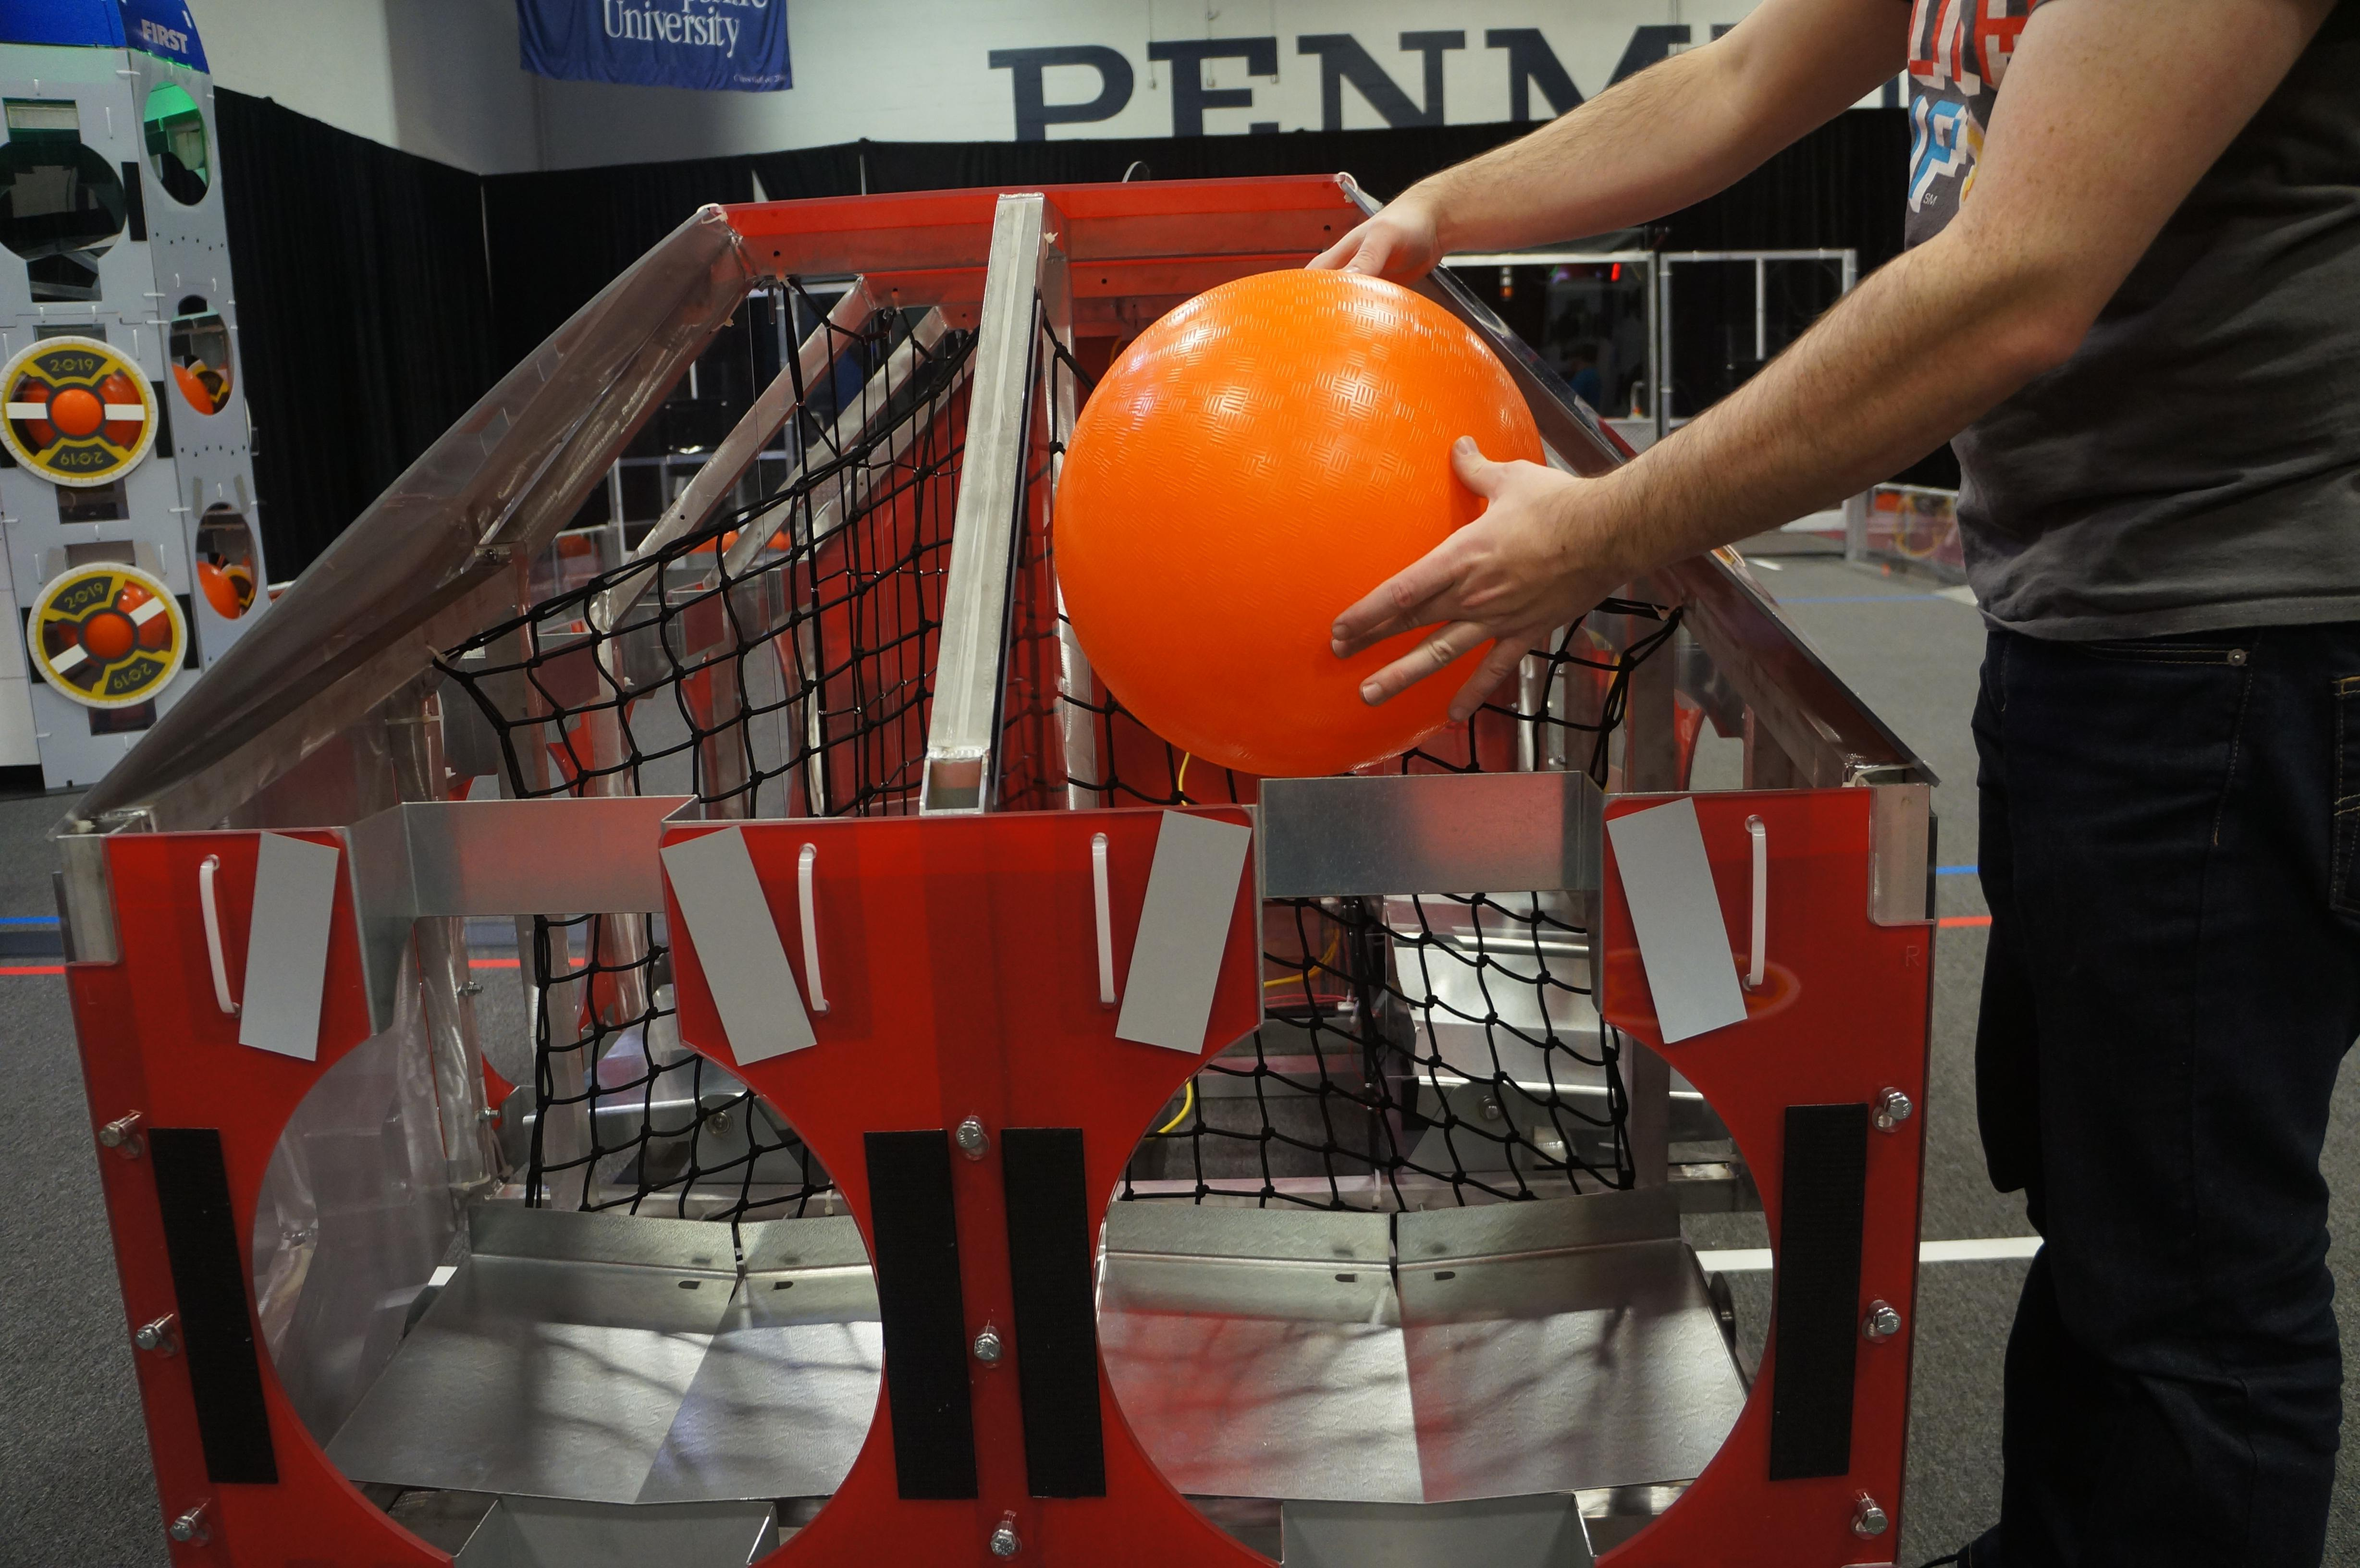Ball: (1046, 266, 1548, 782), (16, 360, 131, 464), (58, 581, 171, 665)
Hatch: (21, 560, 185, 712), (0, 334, 159, 488)
Tape: (656, 826, 820, 1066), (1602, 796, 1749, 1046), (1113, 808, 1256, 1057), (234, 829, 341, 1064)
